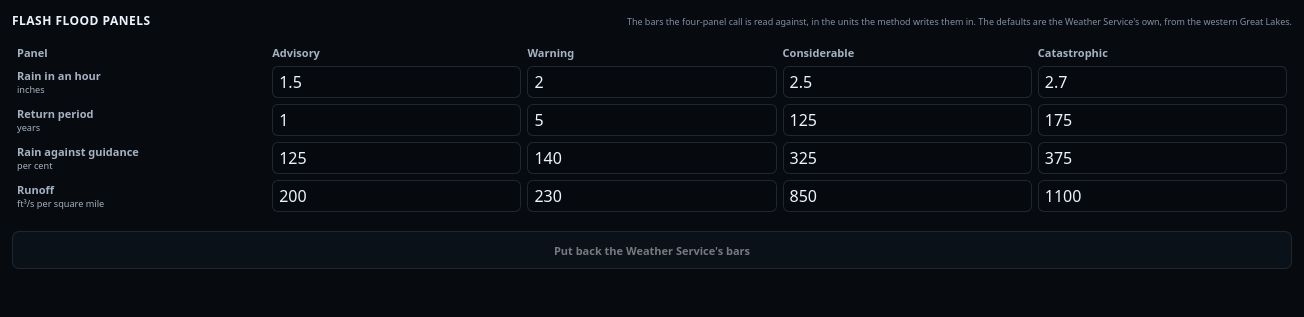
Test case: the flash flood bars in Settings › puts back a bar that would stop a panel climbing, and says why
Replace the text in the number field named "Return period, Considerable" with "3" at (907, 120), box [783, 104, 1032, 136]
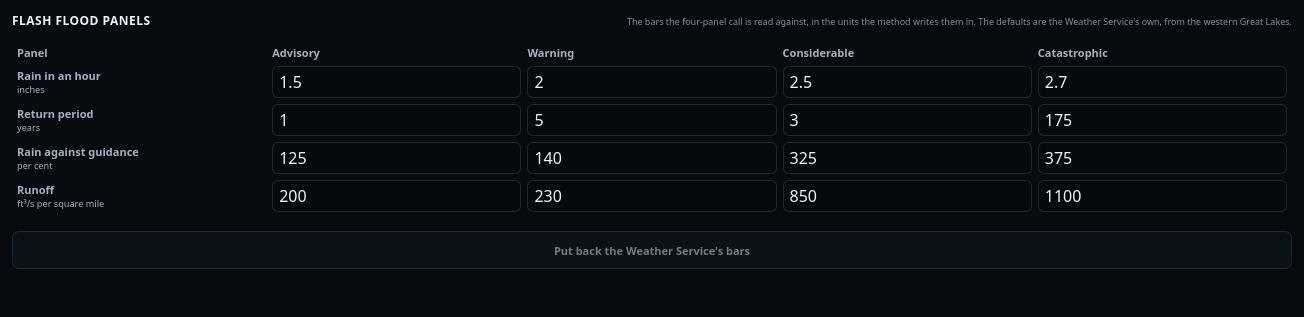
Leave the number field named "Return period, Considerable", box [783, 104, 1032, 136]
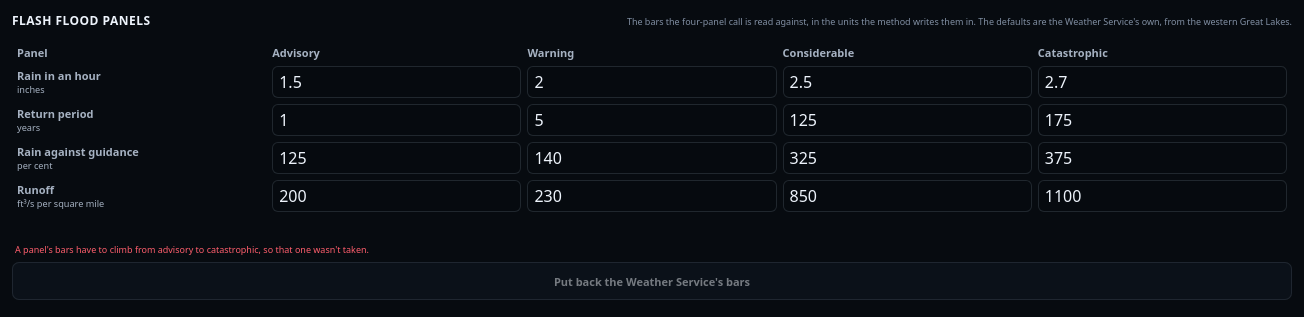
Now the text "A panel's bars have to climb from advisory to catastrophic, so that one wasn't taken." is shown, box [15, 243, 369, 256]
